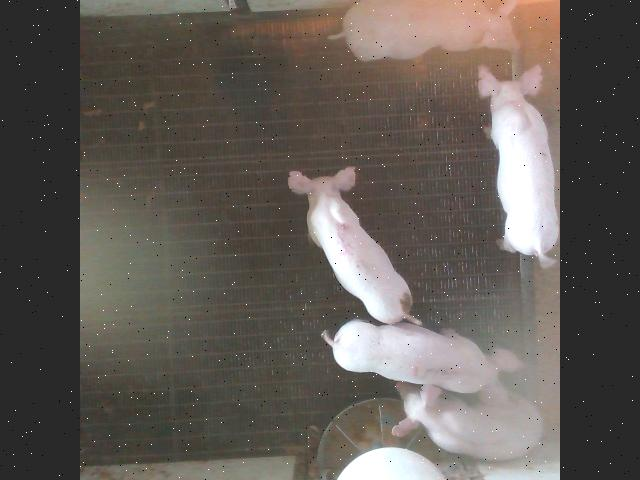pig-4: (289, 166, 421, 324)
pig-5: (321, 319, 522, 402)
